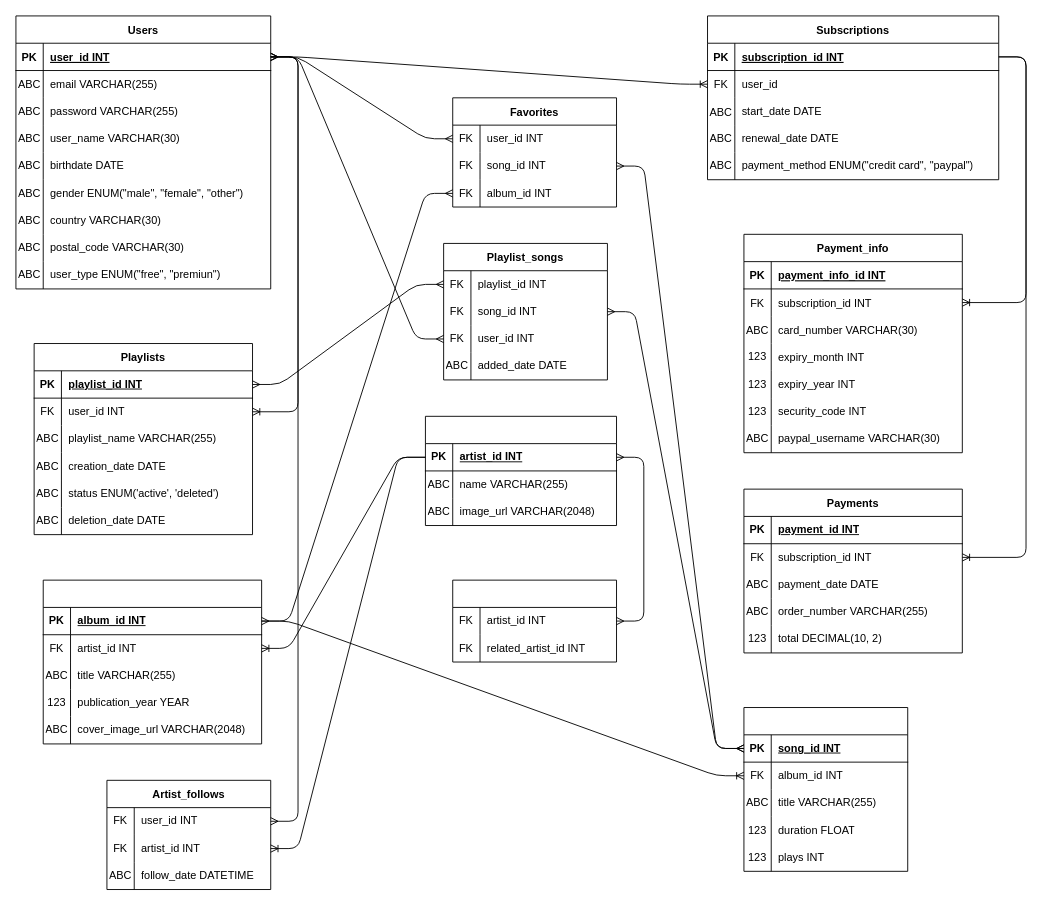
Image size: 1049x905. Some labels were removed from this diagram. The box of each missing label's shape, as (x1, y1, x2, y2) in pixels:
Albums: (42, 579, 262, 744)
Artists: (425, 415, 617, 526)
Related_artists: (452, 579, 617, 662)
Songs: (743, 707, 908, 871)
